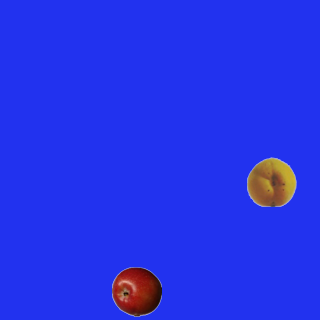Apple Braeburn: (111, 266, 161, 316)
Peach 2: (246, 156, 296, 206)
